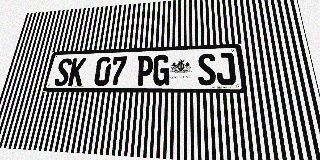0: (93, 57, 112, 86)
7: (109, 56, 127, 86)
G: (152, 55, 170, 86)
J: (215, 53, 236, 85)
K: (67, 58, 87, 86)
P: (136, 55, 153, 86)
S: (197, 53, 217, 85), (53, 58, 73, 86)
